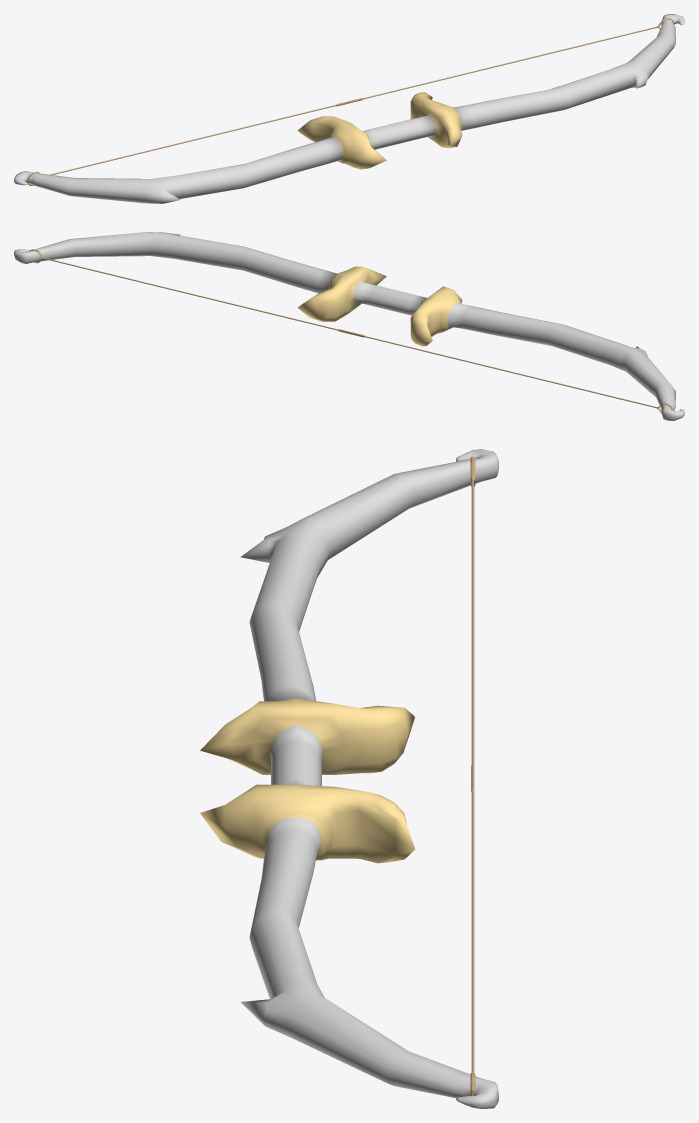
File: Arco.fbx
3 views of the same model, one above another, from view 1: azimuth 30°, elevation 25°; view 2: azimuth 150°, elevation 25°; view 3: azimuth 270°, elevation 25° (orthographic). The views are drawn at different scales.
Parts seen in each view (by area): view 1: Cube.001; view 2: Cube.001; view 3: Cube.001.
Part boxes in pixels (x1,y1,x2,y2): Cube.001: (14,14,684,203); Cube.001: (14,232,684,420); Cube.001: (200,449,498,1108).
Bounding box in the file's own units: 3654 × 178 × 708.
